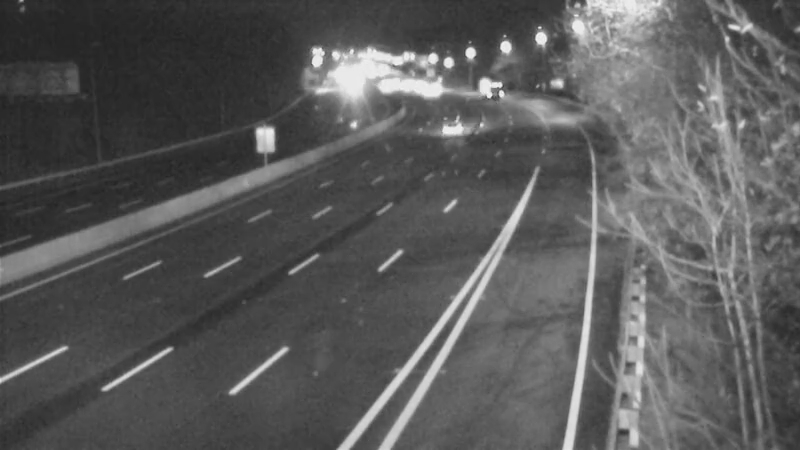vehicle: (470, 59, 520, 109), (430, 101, 480, 151)
